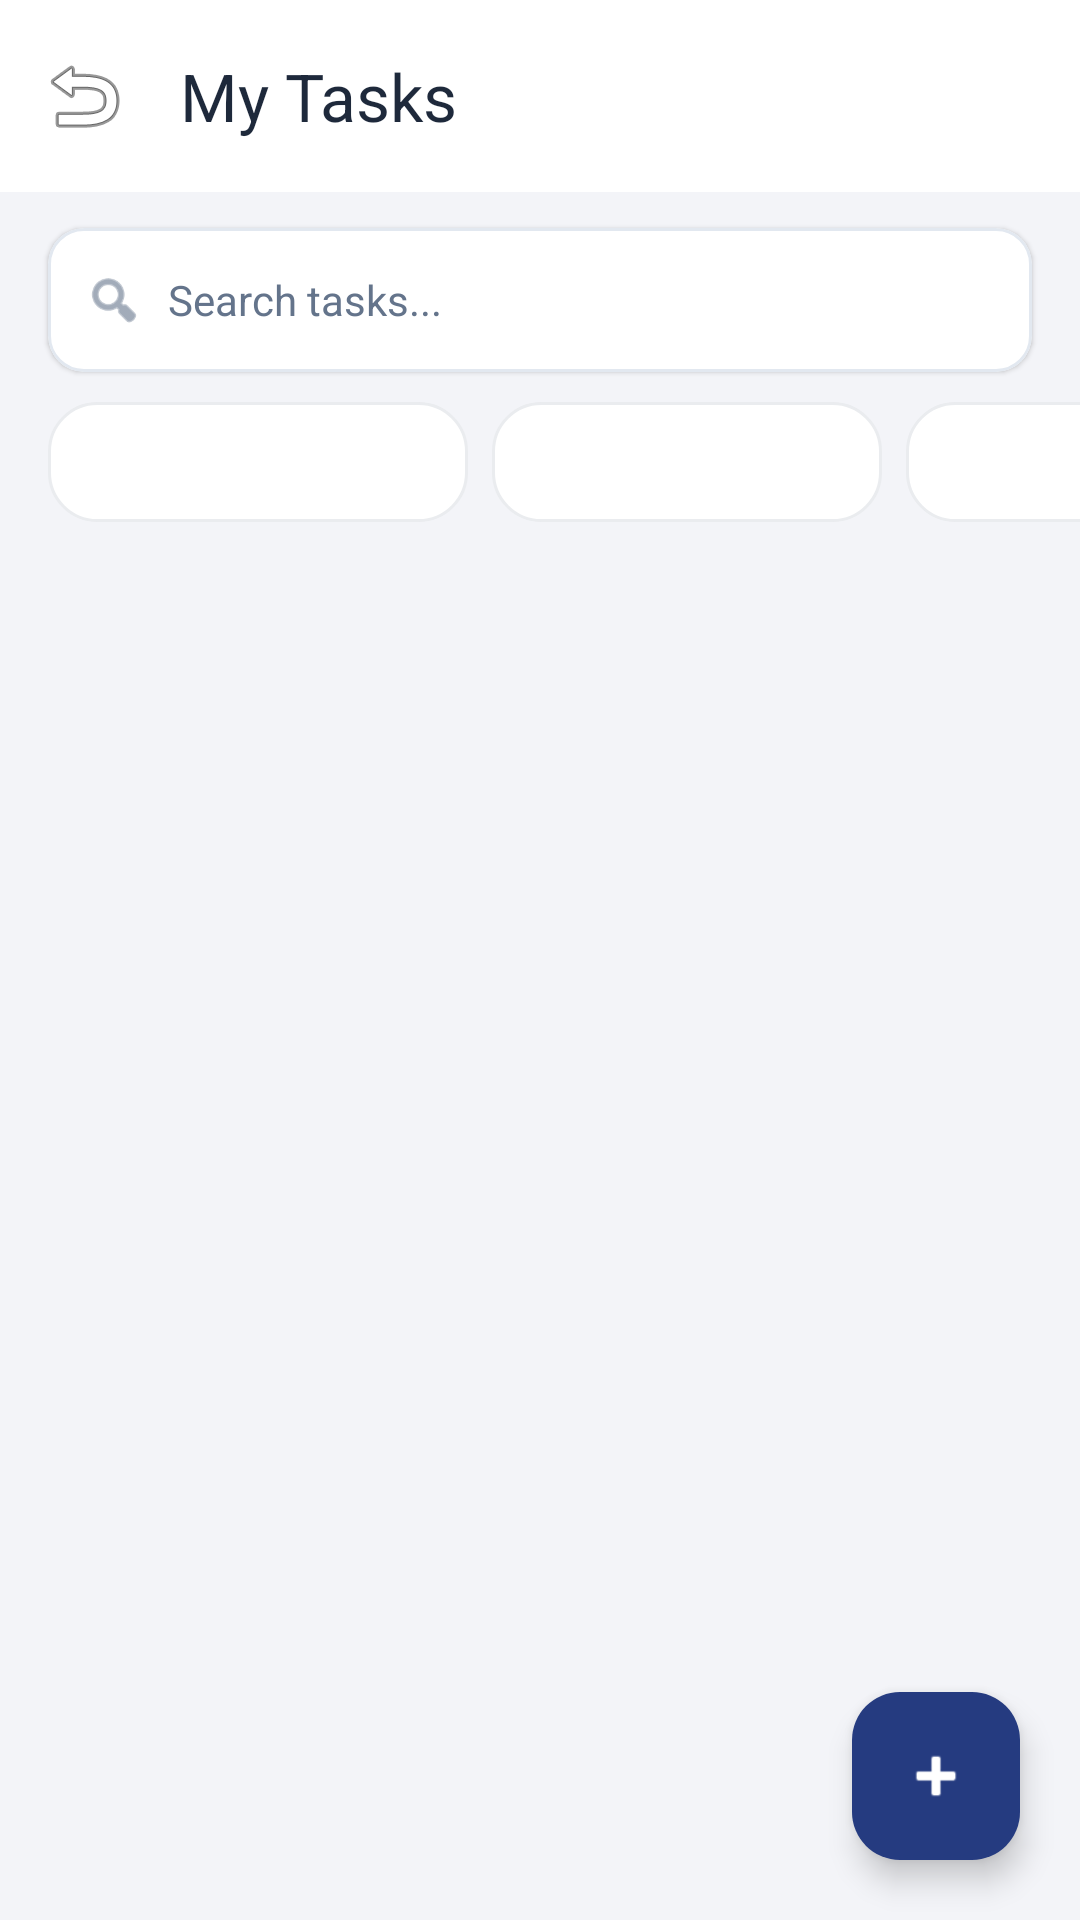

Icons on this 1080x1920 Android screen, each with its box as (x1,y1,x2,y2):
+ Add New Task: (852,1692,1020,1860)
